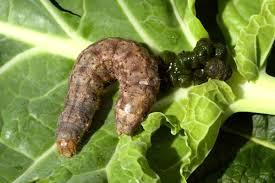Caterpillar: (58, 34, 160, 160)
